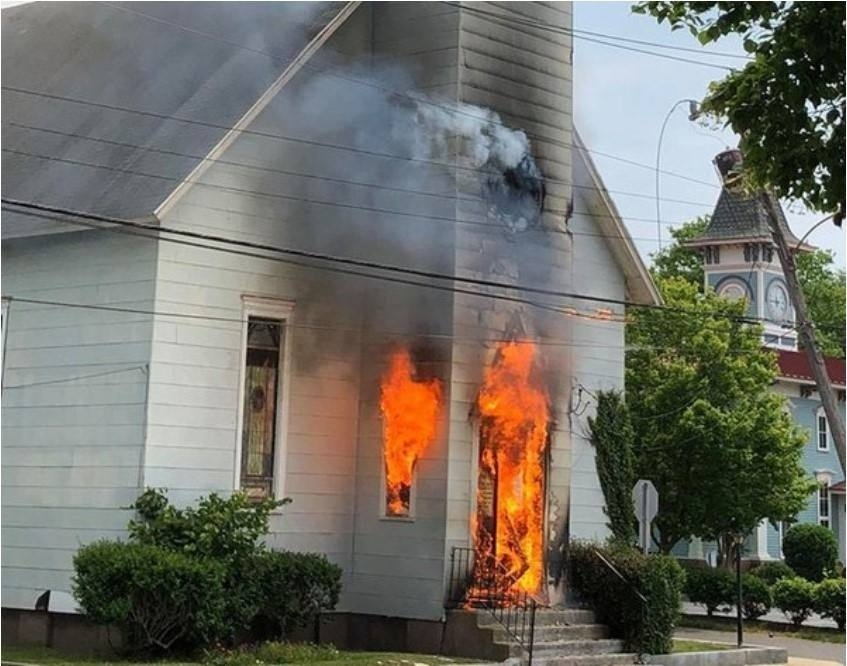fire: (474, 326, 554, 598), (375, 345, 440, 517)
